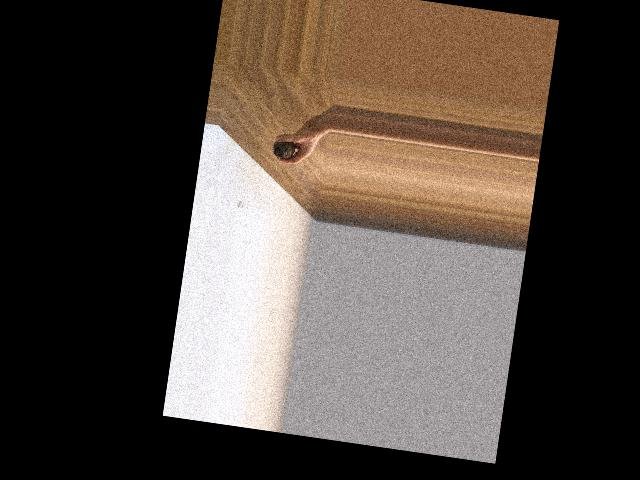beet: (271, 129, 297, 160)
